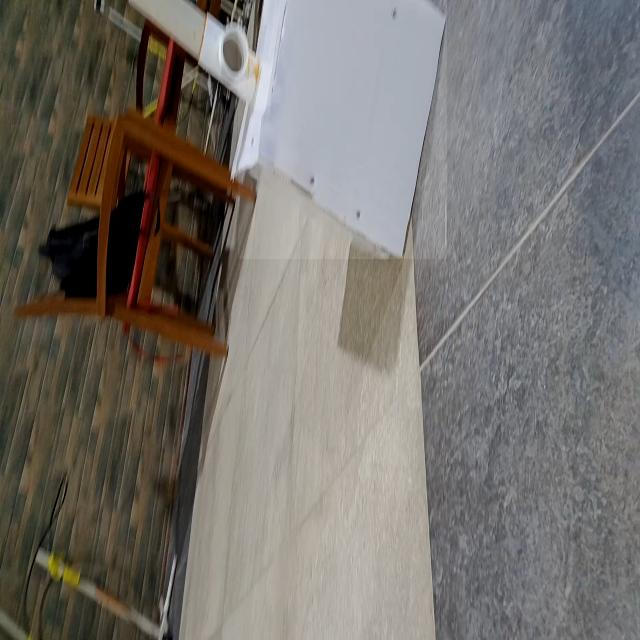Cube: (238, 0, 447, 259)
